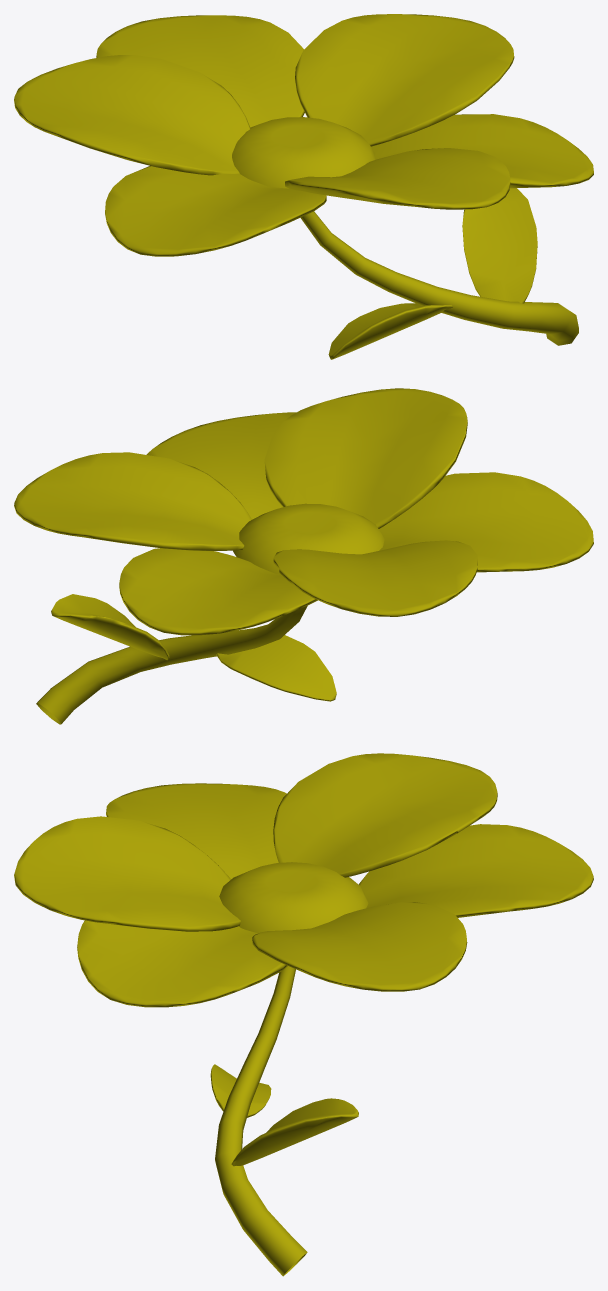
The model's file is sm_flower_03.fbx.
3 views of the same model, one above another, from view 1: azimuth 30°, elevation 25°; view 2: azimuth 150°, elevation 25°; view 3: azimuth 270°, elevation 25° (orthographic). The views are drawn at different scales.
Visible parts, largest first — view 1: sm_flower_03; view 2: sm_flower_03; view 3: sm_flower_03.
Boxes of the visible parts, x1,y1,x2,y2 form: sm_flower_03: (14, 14, 593, 359); sm_flower_03: (14, 388, 593, 724); sm_flower_03: (14, 753, 593, 1276).
Bounding box in the file's own units: 143 × 83.2 × 143.
